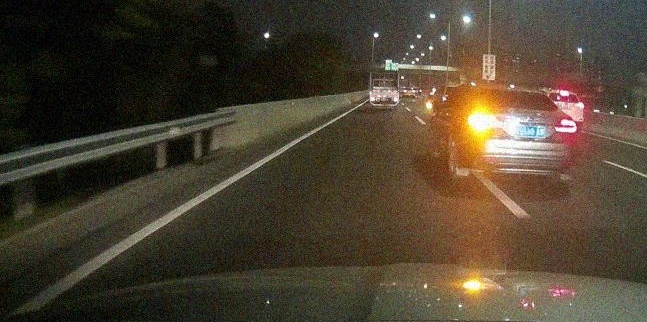L_light: (467, 114, 503, 131)
R_light: (551, 117, 577, 134)
T_light: (503, 88, 524, 93)
night-left: (460, 83, 578, 182)
